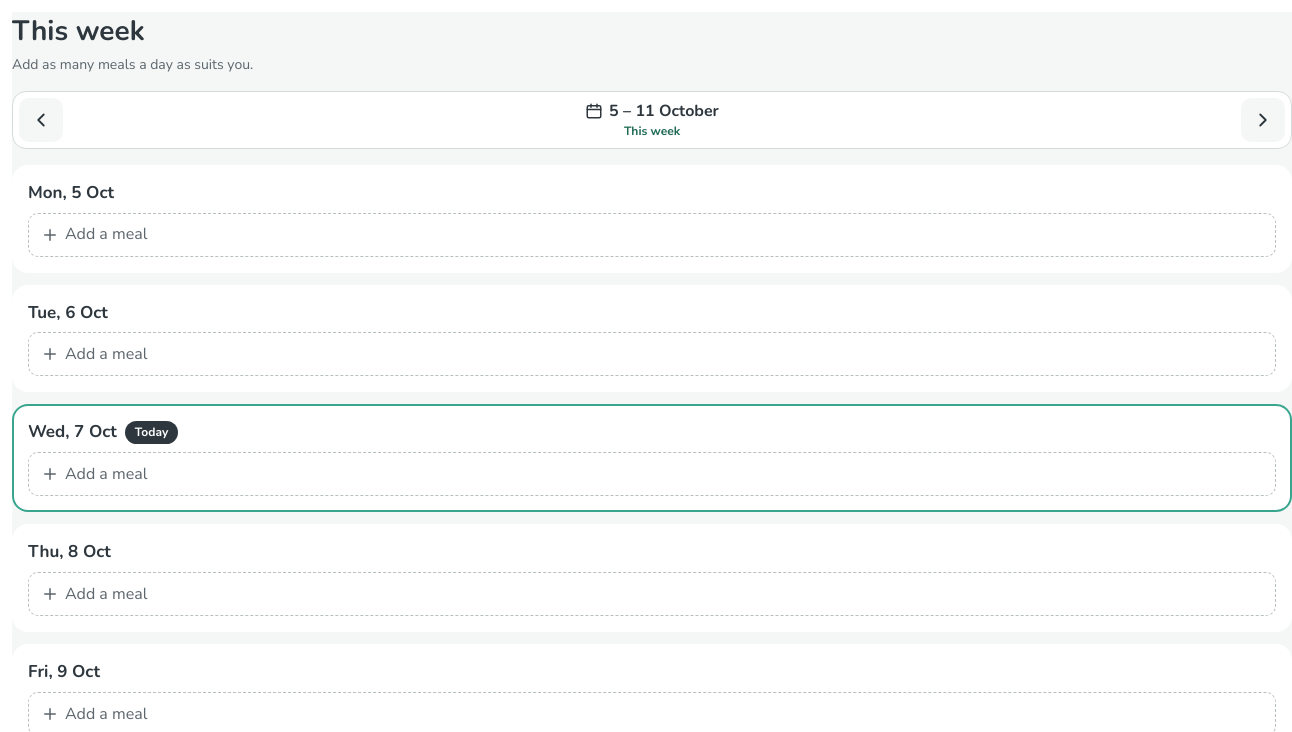
Scenario: WeekPage › moves between weeks with the arrows and keeps the week in the URL
The image size is (1292, 732).
Expected: the text "5 – 11 October" is shown, [585,100,719,123]
Step 1. Click the button named "Next week" → point(1263, 120), box [1241,98,1285,142]
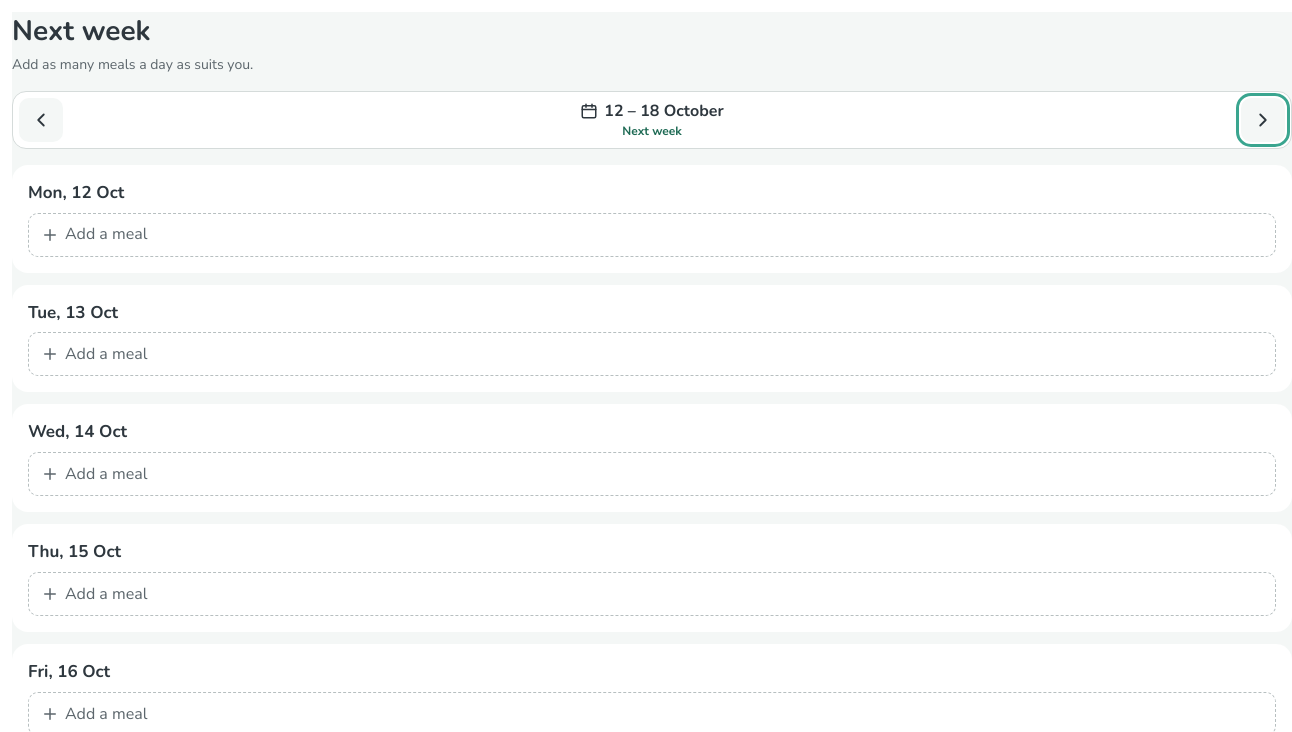
Expected: the text "12 – 18 October" is shown, [580,100,724,123]
Expected: the heading "Next week" is shown, [12,12,151,51]
Step 2. Click the button named "Previous week" → point(41, 120), box [19,98,63,142]
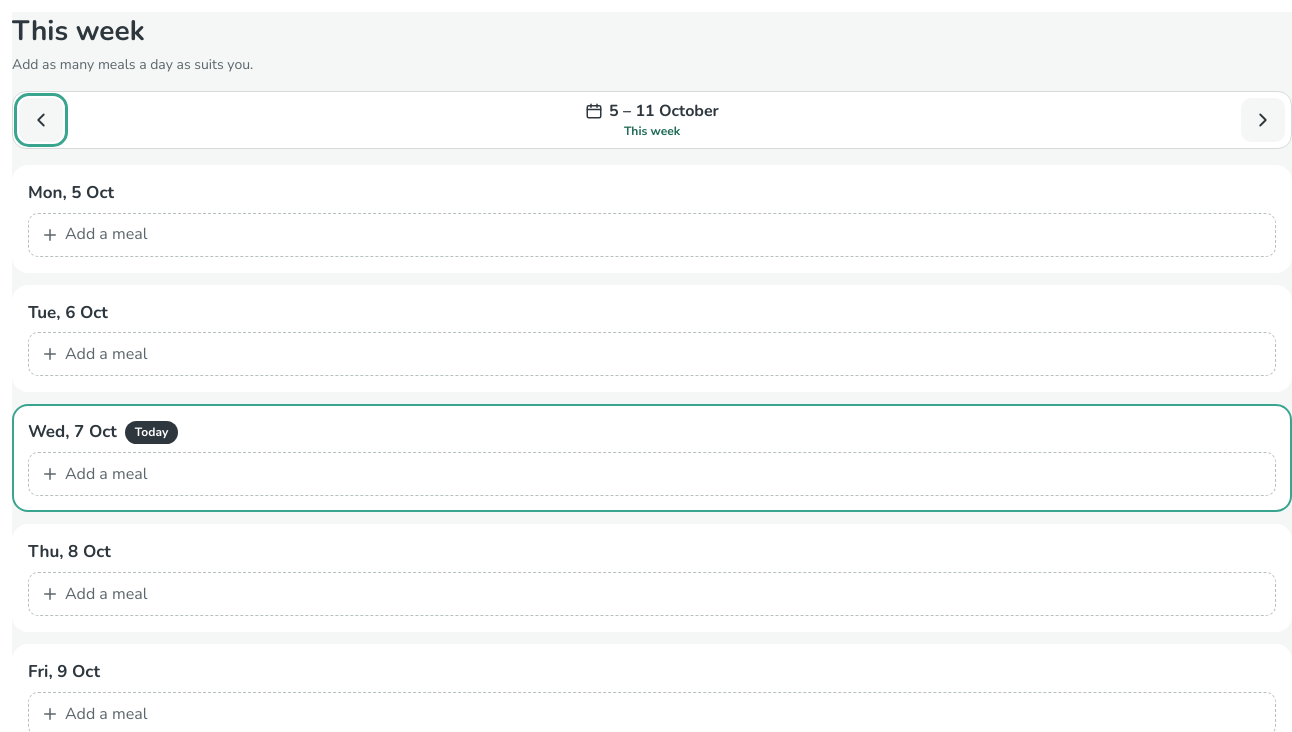
Step 3. Click the button named "Previous week" → point(41, 120), box [19,98,63,142]
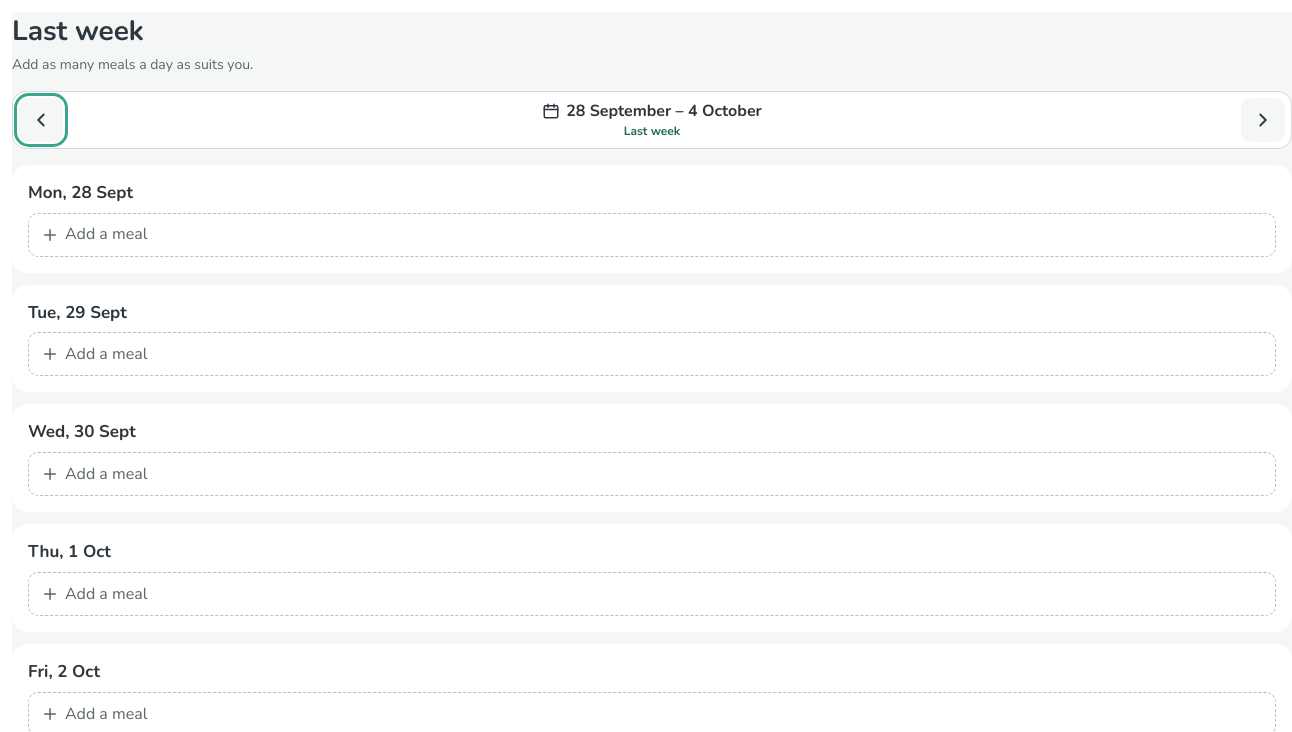
Expected: the text "28 September – 4 October" is shown, [542,100,762,123]
